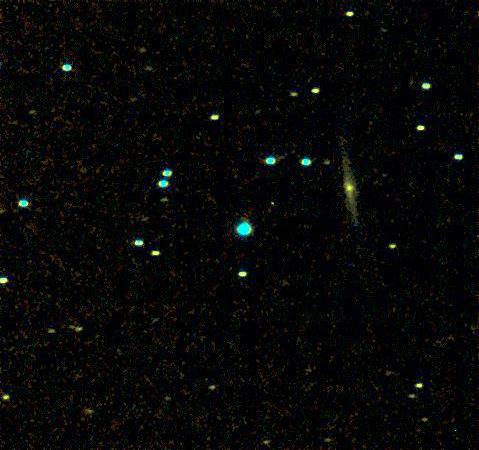star: (104, 335, 134, 365)
